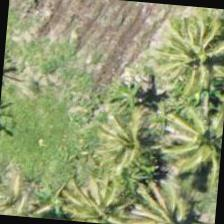Kelapa_Sawit: (101, 96, 199, 194), (129, 7, 223, 106), (150, 103, 223, 199), (40, 158, 136, 223), (124, 176, 219, 223)
